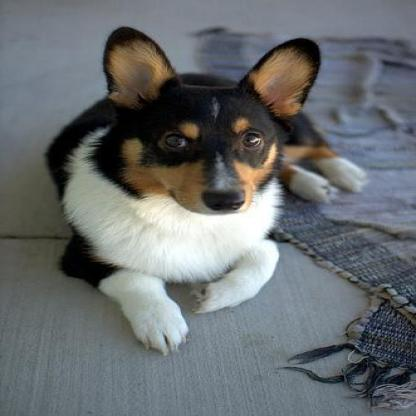Pembroke: (44, 27, 368, 357)
